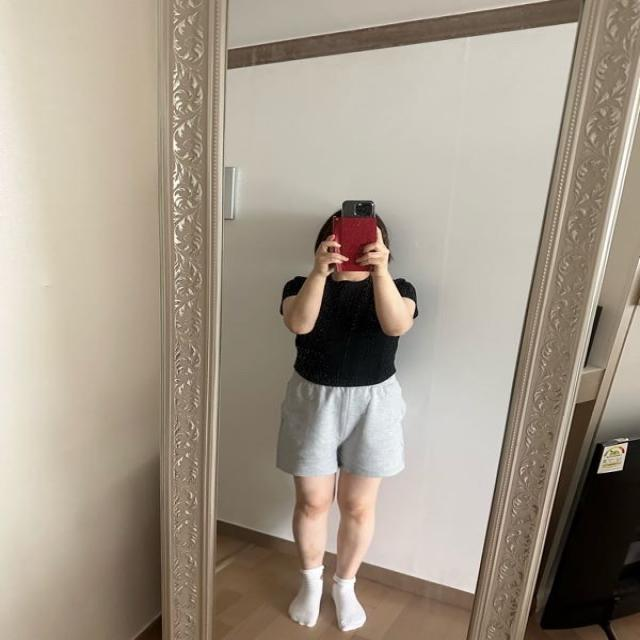shortpants: (276, 365, 409, 479)
shortsleeve: (276, 267, 413, 385)
